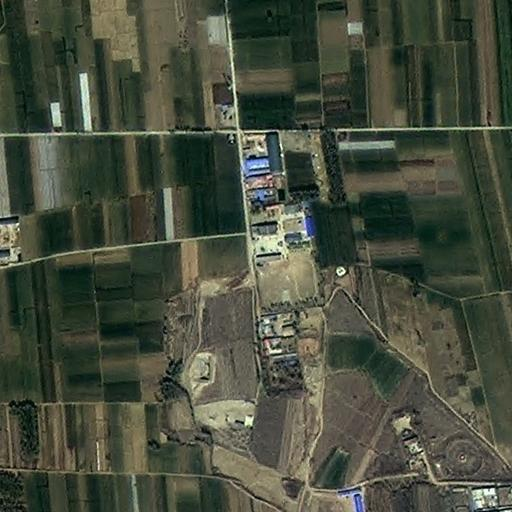school: (249, 200, 322, 309)
